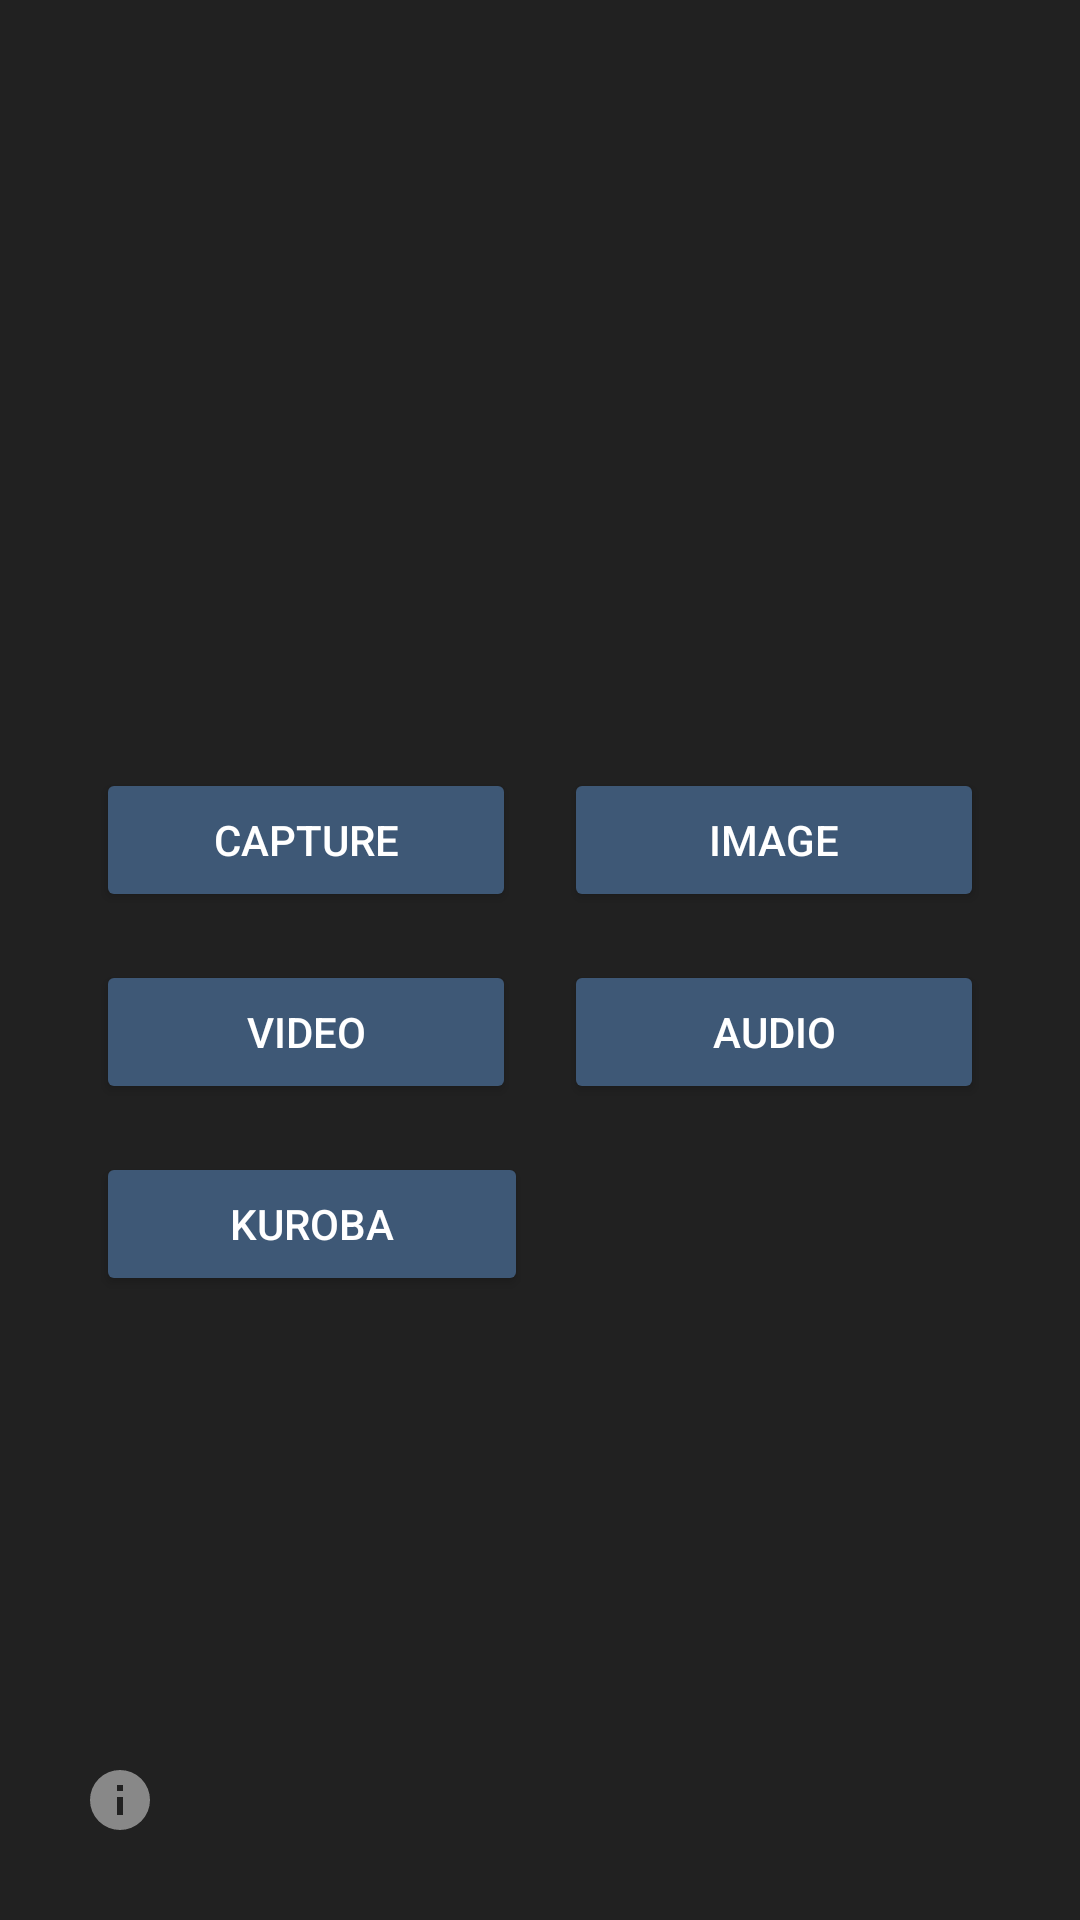

Where icons sit on this 1080×1920 app screen, as box=[x1, y1, x2, y2]:
About: box=[90, 1770, 150, 1830]
